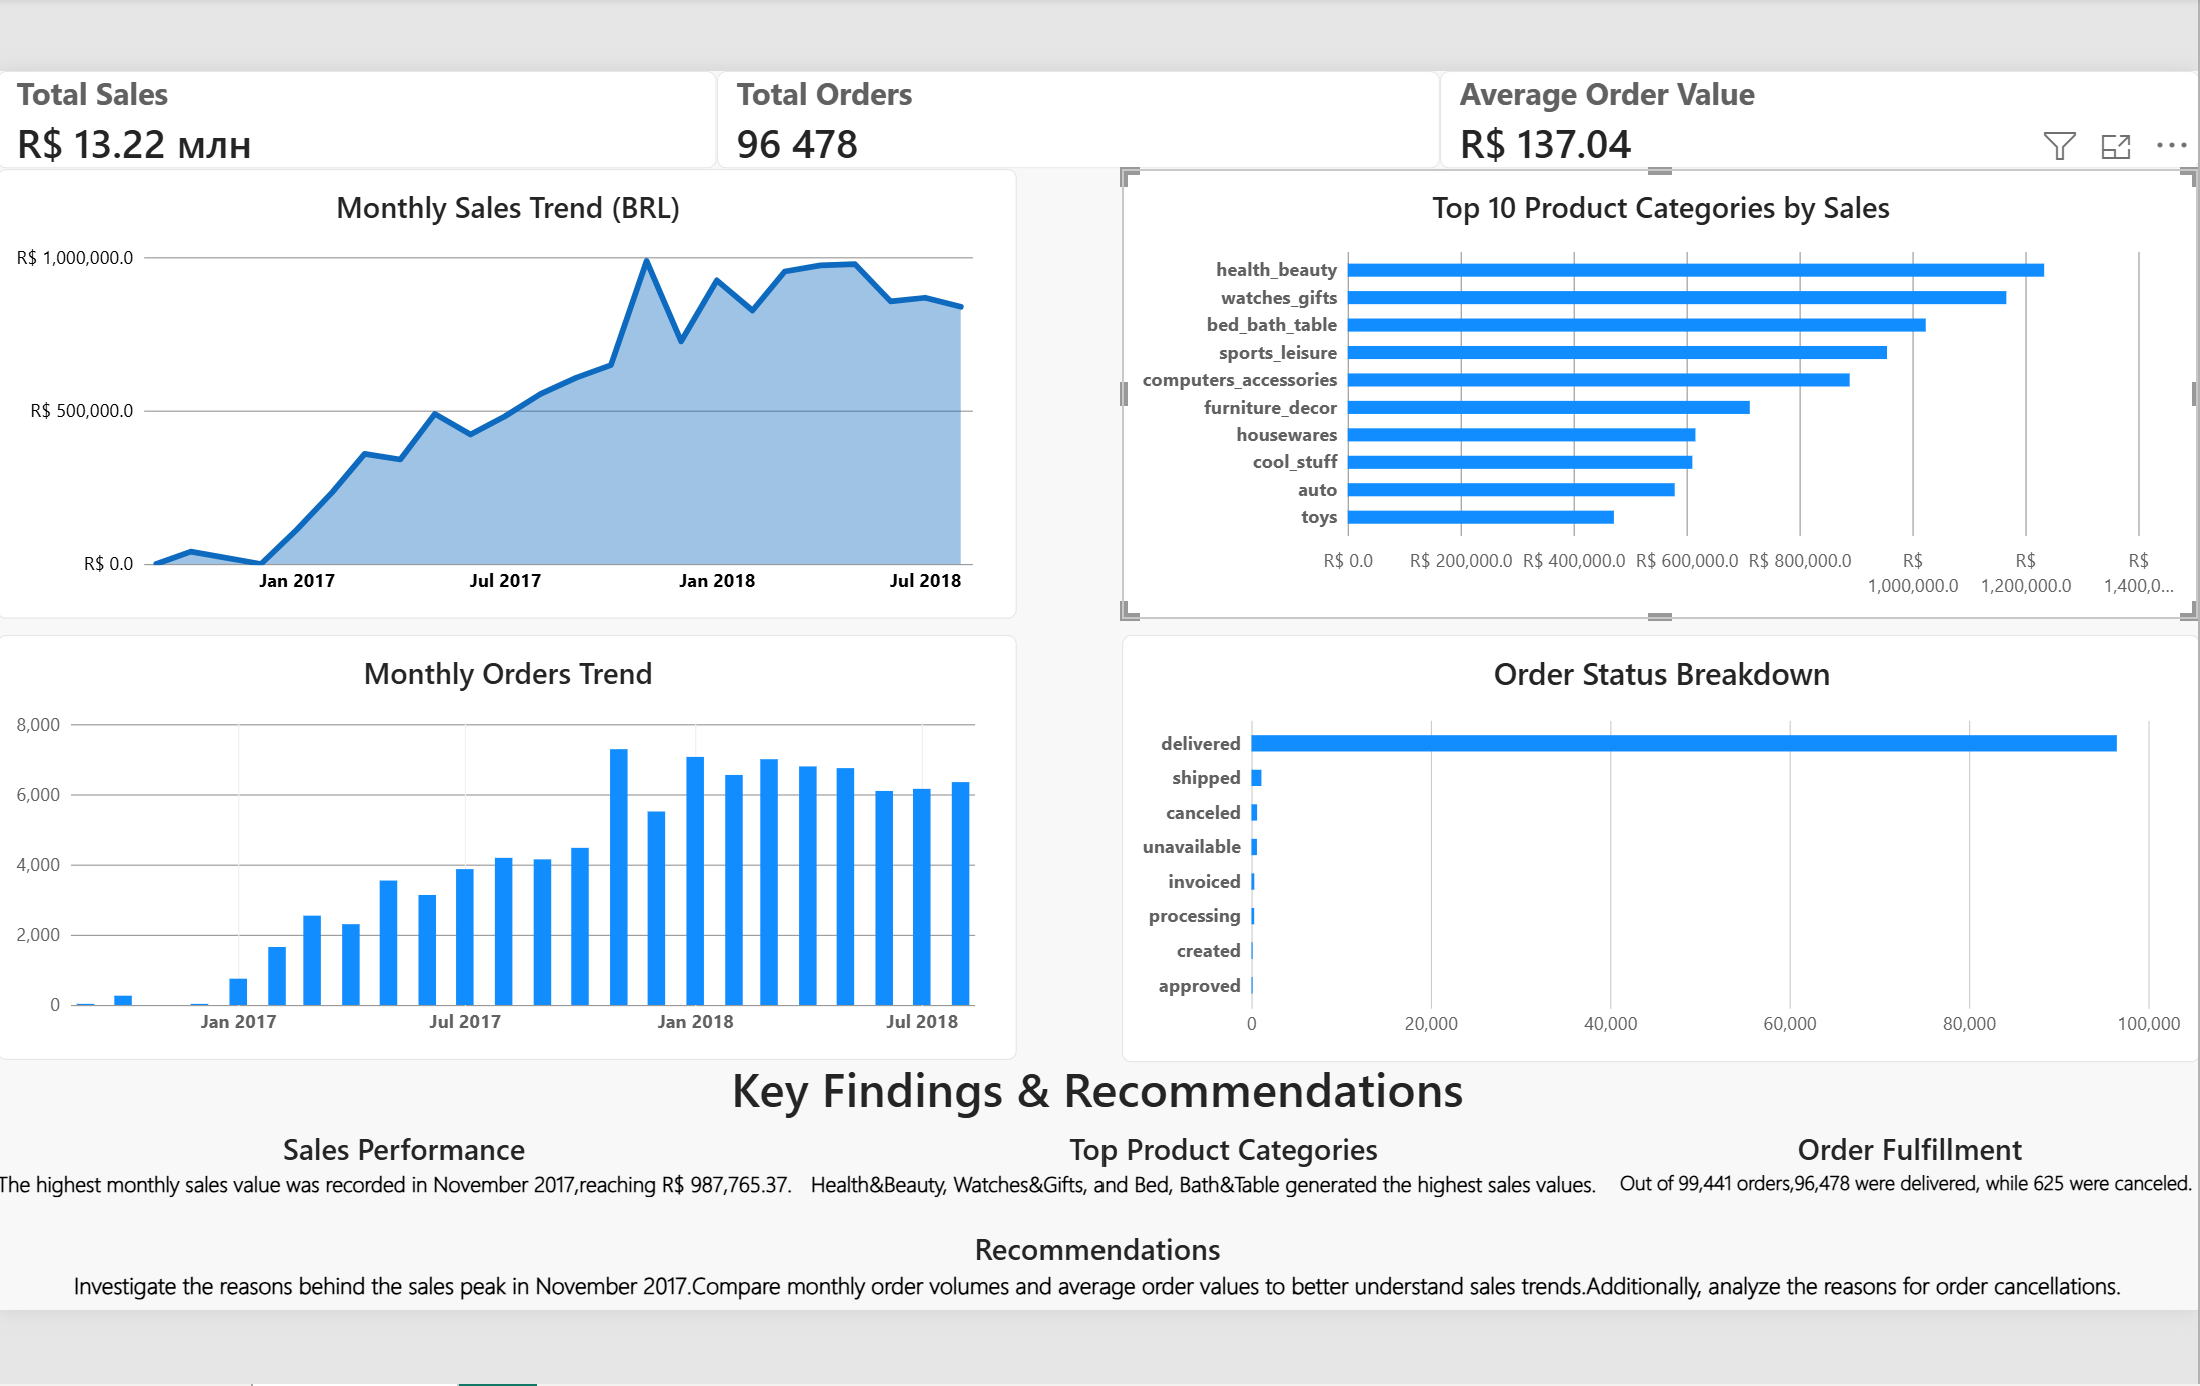

Layout of this report page (visuals, bound fields, positions):
{"tool":"powerbi","page":{"name":"Страница 1","canvas":[1920,1080],"ordinal":0},"visuals":[{"type":"lineChart","title":"Monthly Sales Trend (BRL)","fields":{"Category":["Таблица.month"],"Y":["Sum(Таблица.total_sales)"]},"box":[0,85.5,890.2,392.7],"z":0},{"type":"cardVisual","fields":{"Data":["Sum(Таблица.total_sales)"]},"box":[0,0,628.4,85.5],"z":1000},{"type":"cardVisual","fields":{"Data":["Таблица.average_check"]},"box":[1258.5,0,663.3,85.5],"z":2000},{"type":"cardVisual","fields":{"Data":["Таблица.Total orders"]},"box":[628.4,0,630.1,85.5],"z":3000},{"type":"clusteredBarChart","title":"Top 10 Product Categories by Sales","fields":{"Category":["Таблица (2).English Name"],"Y":["Sum(Таблица (2).Total Sales)"]},"box":[980.9,85.5,939.1,392.7],"z":4000},{"type":"clusteredColumnChart","title":"Monthly Orders Trend","fields":{"Category":["Таблица (3).Month"],"Y":["Sum(Таблица (3).Total Orders)"]},"box":[0,492.2,890.2,370],"z":5000},{"type":"clusteredBarChart","title":"Order Status Breakdown","fields":{"Category":["Таблица (4).Order_Status"],"Y":["Sum(Таблица (4).Total_Orders)"]},"box":[980.9,492.2,940.8,371.8],"z":6000},{"type":"textbox","box":[99.5,167.6,340.4,110],"z":7000},{"type":"textbox","title":"Sales Performance","box":[0,921.6,710.4,101.2],"z":8000},{"type":"textbox","title":"Top Product Categories","box":[710.4,921.6,719.1,101.2],"z":9000},{"type":"textbox","title":"Order Fulfillment","box":[1415.6,921.6,506.2,101.2],"z":10000},{"type":"textbox","title":"Recommendations","box":[0,1008.9,1920,71.6],"z":11000},{"type":"textbox","title":"Key Findings & Recommendations","box":[0,858.8,1920,59.3],"z":12000}]}

Visuals, with their boxes on the page's 1920x1080 design canvas (x1, y1, x2, y2). These are canvas units, not pixel positions in the 2200x1386 screenshot, which may show the page scaled, cropped or inside an application window:
"Monthly Sales Trend (BRL)" lineChart: box=[0, 86, 890, 478]
cardVisual - Sum(Таблица.total_sales): box=[0, 0, 628, 86]
cardVisual - Таблица.average_check: box=[1258, 0, 1922, 86]
cardVisual - Таблица.Total orders: box=[628, 0, 1258, 86]
"Top 10 Product Categories by Sales" clusteredBarChart: box=[981, 86, 1920, 478]
"Monthly Orders Trend" clusteredColumnChart: box=[0, 492, 890, 862]
"Order Status Breakdown" clusteredBarChart: box=[981, 492, 1922, 864]
textbox: box=[100, 168, 440, 278]
"Sales Performance" textbox: box=[0, 922, 710, 1023]
"Top Product Categories" textbox: box=[710, 922, 1430, 1023]
"Order Fulfillment" textbox: box=[1416, 922, 1922, 1023]
"Recommendations" textbox: box=[0, 1009, 1920, 1080]
"Key Findings & Recommendations" textbox: box=[0, 859, 1920, 918]
